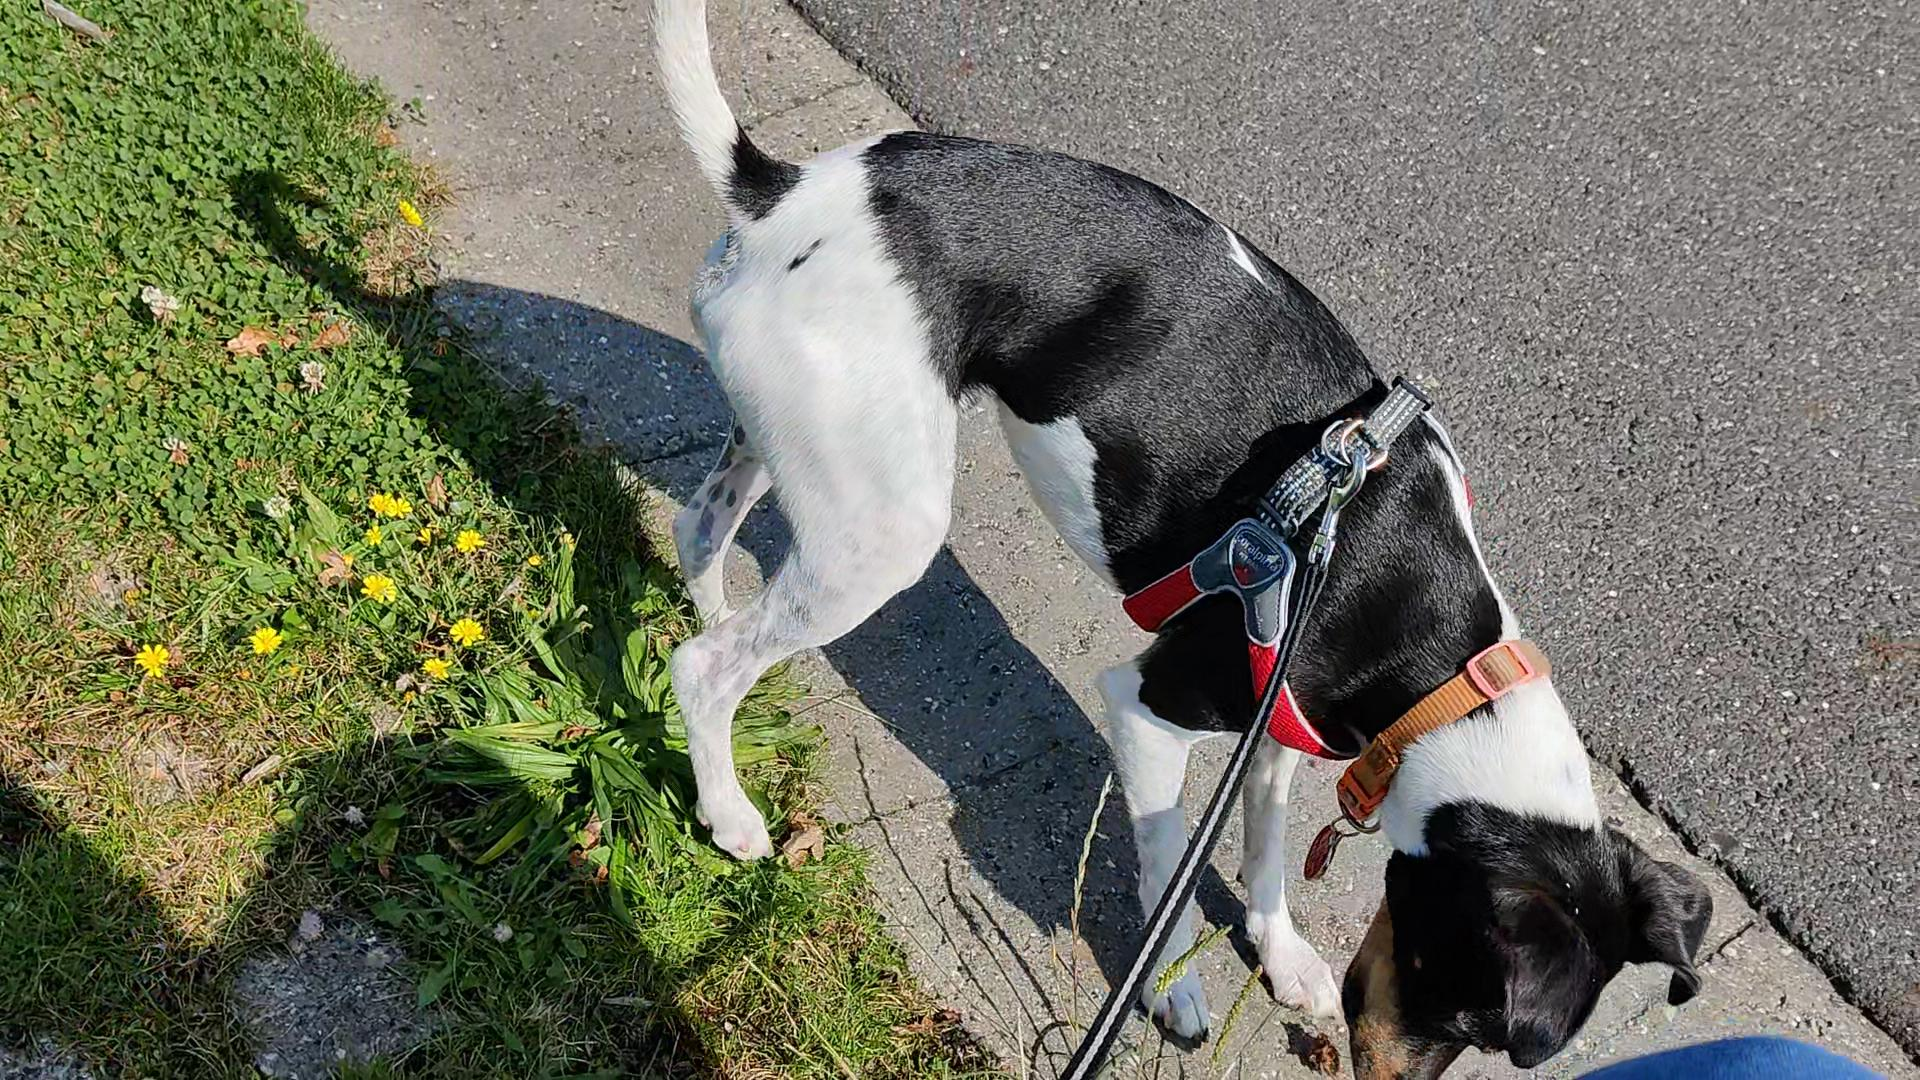Dog: (629, 0, 1724, 1079)
